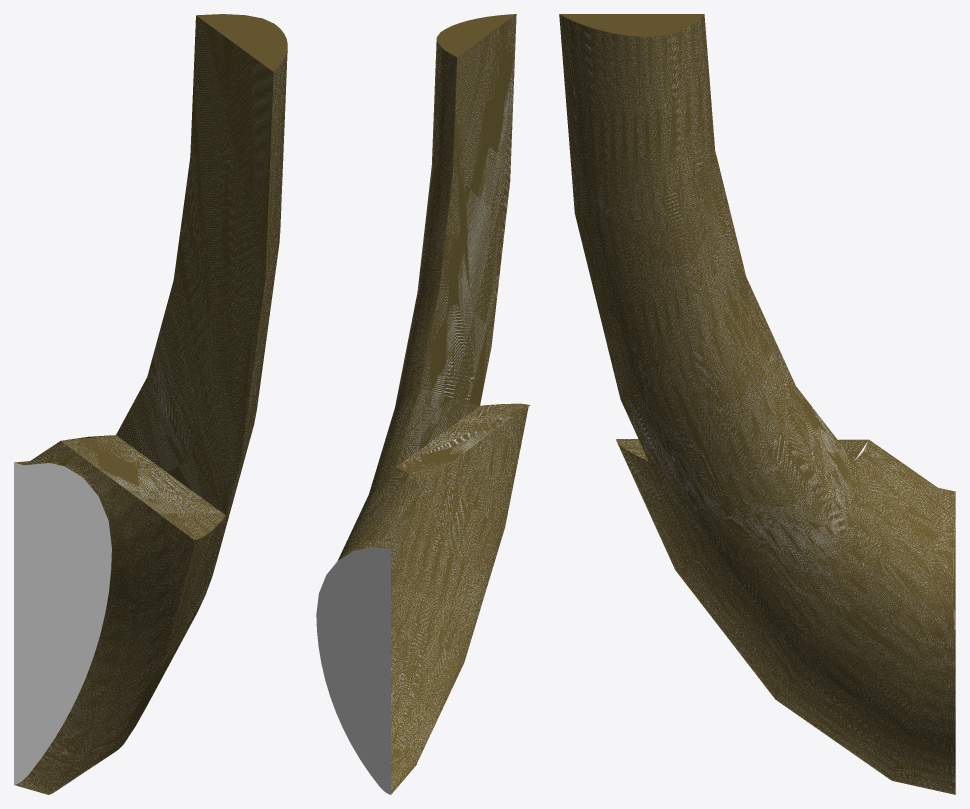
File: original-73.obj
3 renders of one model, left to right at view 1: azimuth 30°, elevation 25°; view 2: azimuth 150°, elevation 25°; view 3: azimuth 270°, elevation 25°, orthographic. The views are drawn at different scales.
Parts seen in each view (by area): view 1: Quarter_handle1/Quarter_handle/mesh118/mesh118-geometry#mesh118-; view 2: Quarter_handle1/Quarter_handle/mesh118/mesh118-geometry#mesh118-; view 3: Quarter_handle1/Quarter_handle/mesh118/mesh118-geometry#mesh118-.
Part boxes in pixels (<box>): Quarter_handle1/Quarter_handle/mesh118/mesh118-geometry#mesh118-: <box>14,14,287,794</box>; Quarter_handle1/Quarter_handle/mesh118/mesh118-geometry#mesh118-: <box>316,14,530,794</box>; Quarter_handle1/Quarter_handle/mesh118/mesh118-geometry#mesh118-: <box>559,14,955,794</box>.
Bounding box in the file's own units: 0.00922 × 0.0761 × 0.0341.
